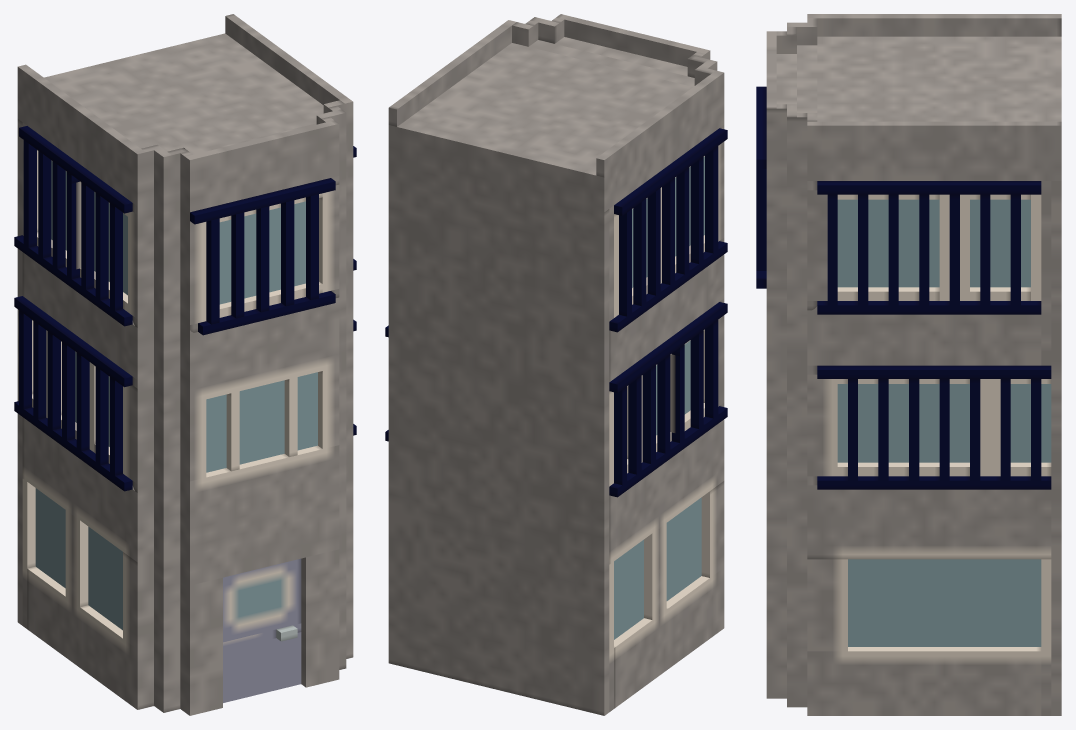
File: wyjście_tylnie_na_plac.dae
3 views of the same model, side by side, from view 1: azimuth 30°, elevation 25°; view 2: azimuth 150°, elevation 25°; view 3: azimuth 270°, elevation 25° (orthographic). The views are drawn at different scales.
Visible parts, largest first — view 1: Content; view 2: Content; view 3: Content.
Boxes of the visible parts, x1,y1,x2,y2 form: Content: [14, 14, 356, 715]; Content: [385, 14, 727, 715]; Content: [756, 14, 1061, 715].
Size of the model in its own units: 28 by 64 by 30.
1 material, 1 textured.
